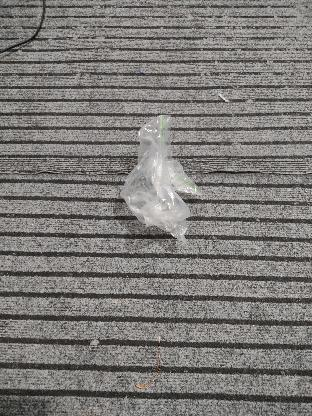Plastic Bag: (120, 114, 200, 242)
